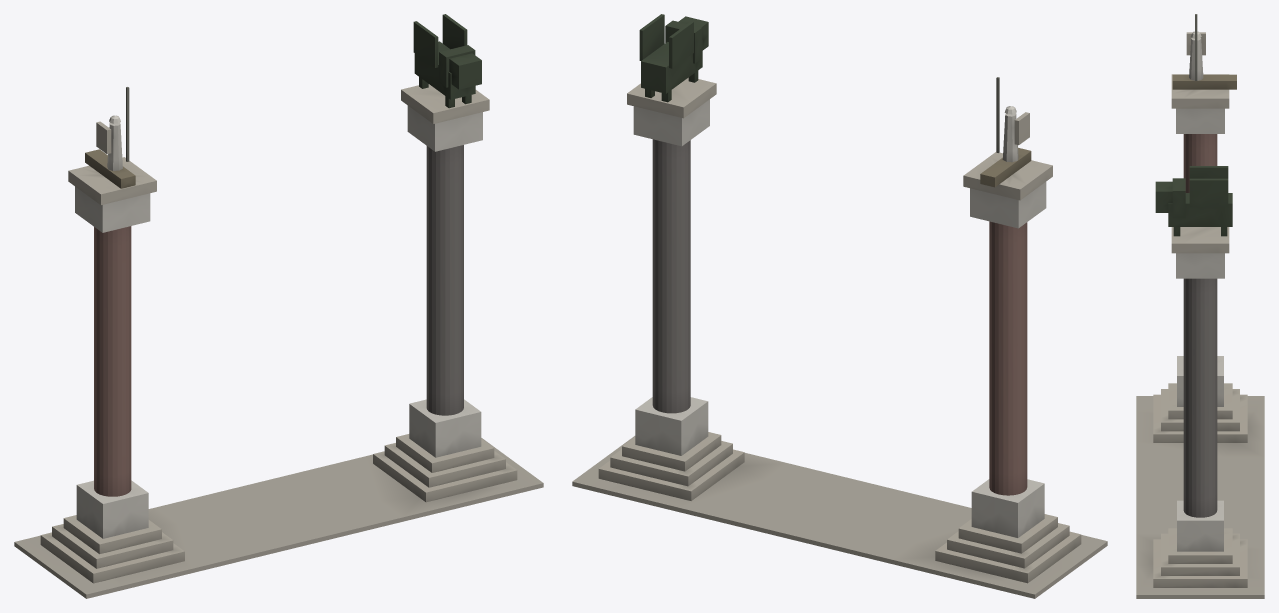
The model's file is columns.glb.
3 views of the same model, side by side, from view 1: azimuth 30°, elevation 25°; view 2: azimuth 150°, elevation 25°; view 3: azimuth 270°, elevation 25° (orthographic). The views are drawn at different scales.
Parts seen in each view (by area): view 1: p1_columns, p0_ground; view 2: p1_columns, p0_ground; view 3: p1_columns, p0_ground.
Boxes of the visible parts, left/top/right/bottom form: p1_columns: left=40, top=14, right=517, bottom=583; p0_ground: left=14, top=438, right=543, bottom=598; p1_columns: left=598, top=14, right=1081, bottom=583; p0_ground: left=572, top=436, right=1107, bottom=598; p1_columns: left=1153, top=14, right=1247, bottom=587; p0_ground: left=1136, top=396, right=1264, bottom=598.
Size of the model in its own units: 22 by 21.55 by 6.
